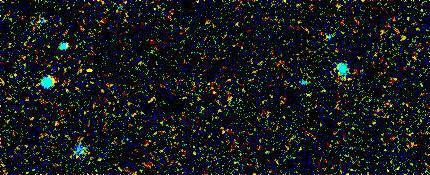star: (75, 56, 105, 86)
